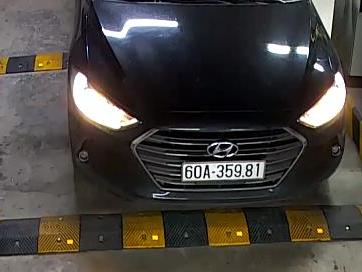car: (181, 160, 267, 181)
